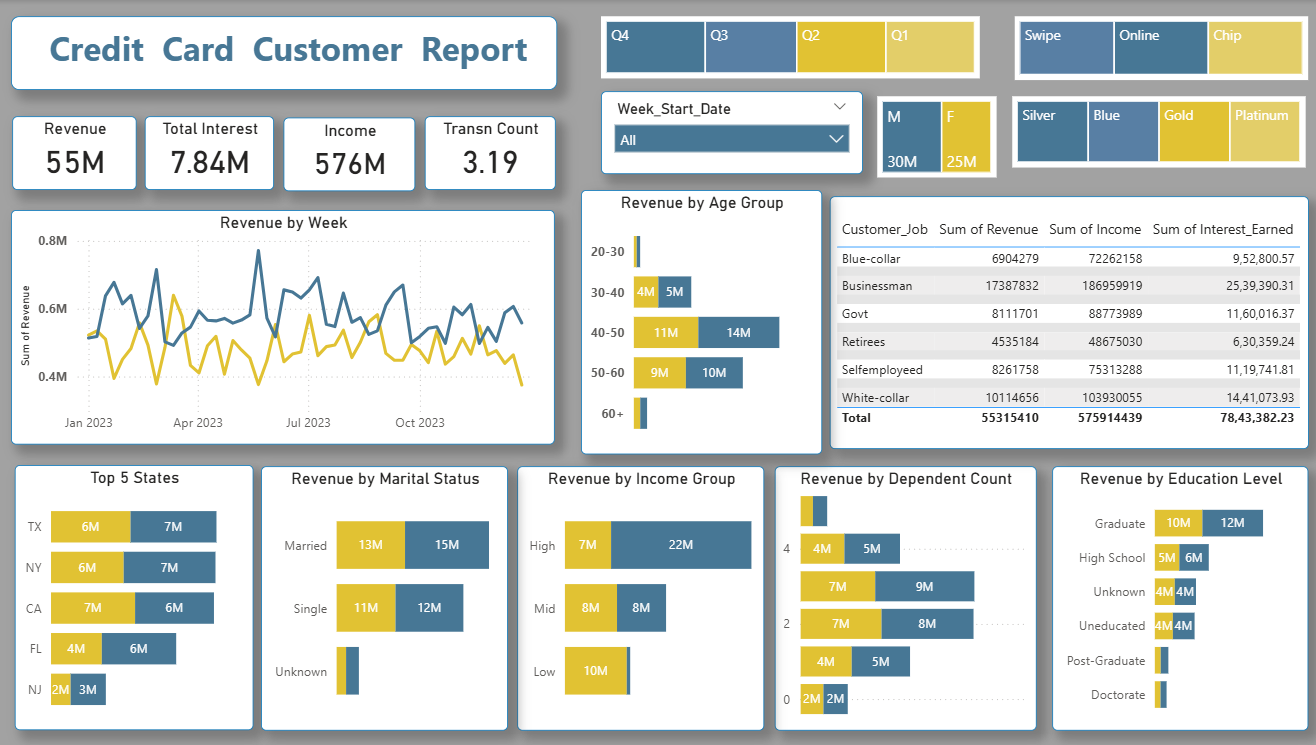

The page's visual inventory and layout, read from the dashboard file:
{"tool":"powerbi","page":{"name":"Customer Report","canvas":[1280,720],"ordinal":1},"visuals":[{"type":"textbox","box":[14.3,15.7,527.1,71.4],"z":0},{"type":"barChart","title":"Revenue by Dependent Count","fields":{"Y":["Sum(ccdb cc_details.Revenue)"],"Category":["ccdb cust_details.Dependent_Count"],"Series":["ccdb cust_details.Gender"]},"box":[751.2,450,252.5,255],"z":1000},{"type":"tableEx","fields":{"Values":["ccdb cust_details.Customer_Job","Sum(ccdb cc_details.Revenue)","Sum(ccdb cust_details.Income)","Sum(ccdb cc_details.Interest_Earned)"]},"box":[805,190,462.5,243.8],"z":2000},{"type":"card","title":"Revenue","fields":{"Values":["Sum(ccdb cc_details.Revenue)"]},"box":[15.5,112.4,120,71.2],"z":3000},{"type":"card","title":"Total Interest ","fields":{"Values":["Sum(ccdb cc_details.Interest_Earned)"]},"box":[143,112.4,125,71.2],"z":4000},{"type":"card","title":"Income","fields":{"Values":["Sum(ccdb cust_details.Income)"]},"box":[278,113.7,127.5,71.2],"z":5000},{"type":"card","title":"Transn Count","fields":{"Values":["Avg(ccdb cust_details.Cust_Satisfaction_Score)"]},"box":[414.3,112.4,126.2,71.2],"z":6000},{"type":"treemap","fields":{"Values":["Avg(ccdb cc_details.Client_Num)"],"Group":["ccdb cc_details.Use Chip"]},"box":[982.9,15.7,282.9,61.4],"z":7000},{"type":"treemap","fields":{"Group":["ccdb cc_details.Qtr"],"Values":["Avg(ccdb cc_details.Client_Num)"]},"box":[584.3,15.7,365.7,60],"z":8000},{"type":"treemap","fields":{"Group":["ccdb cc_details.Card_Category"],"Values":["Avg(ccdb cc_details.Client_Num)"]},"box":[981.4,92.9,282.9,68.6],"z":9000},{"type":"slicer","fields":{"Values":["ccdb cc_details.Week_Start_Date"]},"box":[583.8,87.5,252.5,80],"z":11000},{"type":"lineChart","title":"Revenue by Week","fields":{"Y":["Sum(ccdb cc_details.Revenue)"],"Series":["ccdb cust_details.Gender"],"Category":["ccdb cc_details.Week_Start_Date.Variation.Date Hierarchy.Year","ccdb cc_details.Week_Start_Date.Variation.Date Hierarchy.Month","ccdb cc_details.Week_Start_Date.Variation.Date Hierarchy.Day"]},"box":[15,202.5,525,226.2],"z":12000},{"type":"treemap","fields":{"Group":["ccdb cust_details.Gender"],"Values":["Sum(ccdb cc_details.Revenue)"]},"box":[850,92.5,115,78.8],"z":13000},{"type":"barChart","title":"Revenue by Age Group","fields":{"Y":["Sum(ccdb cc_details.Revenue)"],"Category":["ccdb cust_details.AgeGroup"],"Series":["ccdb cust_details.Gender"]},"box":[565,183.8,232.5,255],"z":14000},{"type":"barChart","title":"Revenue by Education Level","fields":{"Y":["Sum(ccdb cc_details.Revenue)"],"Category":["ccdb cust_details.Education_Level"],"Series":["ccdb cust_details.Gender"]},"box":[1020,450,247.5,255],"z":16000},{"type":"barChart","title":"Top 5 States","fields":{"Y":["Sum(ccdb cc_details.Revenue)"],"Category":["ccdb cust_details.state_cd"],"Series":["ccdb cust_details.Gender"]},"box":[17.5,448.8,230,256.2],"z":17000},{"type":"barChart","title":"Revenue by Income Group","fields":{"Y":["Sum(ccdb cc_details.Revenue)"],"Category":["ccdb cust_details.IncomeGroup"],"Series":["ccdb cust_details.Gender"]},"box":[502.5,450,238.8,255],"z":18000},{"type":"barChart","title":"Revenue by Marital Status","fields":{"Y":["Sum(ccdb cc_details.Revenue)"],"Category":["ccdb cust_details.Marital_Status"],"Series":["ccdb cust_details.Gender"]},"box":[256.2,450,238.8,255],"z":19000}]}

Visuals, with their boxes in screenshot pixels (x1, y1, x2, y2), scaled from the page's 1280x720 canvas onto the 1316x745 screenshot:
textbox: 15 16 557 90
"Revenue by Dependent Count" barChart: 772 466 1032 729
tableEx - ccdb cust_details.Customer_Job x Sum(ccdb cc_details.Revenue): 828 197 1303 449
"Revenue" card: 16 116 139 190
"Total Interest " card: 147 116 276 190
"Income" card: 286 118 417 191
"Transn Count" card: 426 116 556 190
treemap - Avg(ccdb cc_details.Client_Num) x ccdb cc_details.Use Chip: 1011 16 1301 80
treemap - ccdb cc_details.Qtr x Avg(ccdb cc_details.Client_Num): 601 16 977 78
treemap - ccdb cc_details.Card_Category x Avg(ccdb cc_details.Client_Num): 1009 96 1300 167
slicer - ccdb cc_details.Week_Start_Date: 600 91 860 173
"Revenue by Week" lineChart: 15 210 555 444
treemap - ccdb cust_details.Gender x Sum(ccdb cc_details.Revenue): 874 96 992 177
"Revenue by Age Group" barChart: 581 190 820 454
"Revenue by Education Level" barChart: 1049 466 1303 729
"Top 5 States" barChart: 18 464 254 729
"Revenue by Income Group" barChart: 517 466 762 729
"Revenue by Marital Status" barChart: 263 466 509 729
